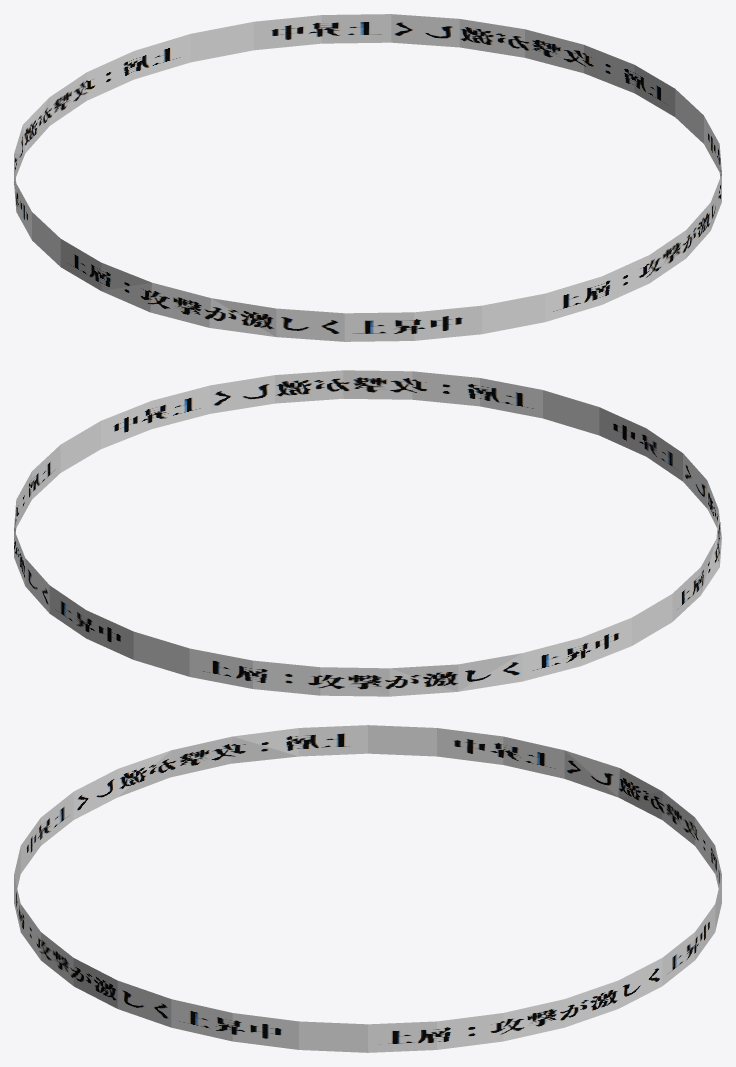
The model's file is ElectricBoard.obj.
The picture shows the model from 3 angles, top to bottom: view 1: azimuth 30°, elevation 25°; view 2: azimuth 150°, elevation 25°; view 3: azimuth 270°, elevation 25°; orthographic projection.
Parts seen in each view (by area): view 1: 円柱; view 2: 円柱; view 3: 円柱.
Part boxes in pixels (left/top/right/bottom): 円柱: left=14, top=14, right=721, bottom=341; 円柱: left=14, top=370, right=721, bottom=696; 円柱: left=14, top=725, right=721, bottom=1052.
Size of the model in its own units: 2.28 by 0.1017 by 2.28.
1 material, 1 textured.
